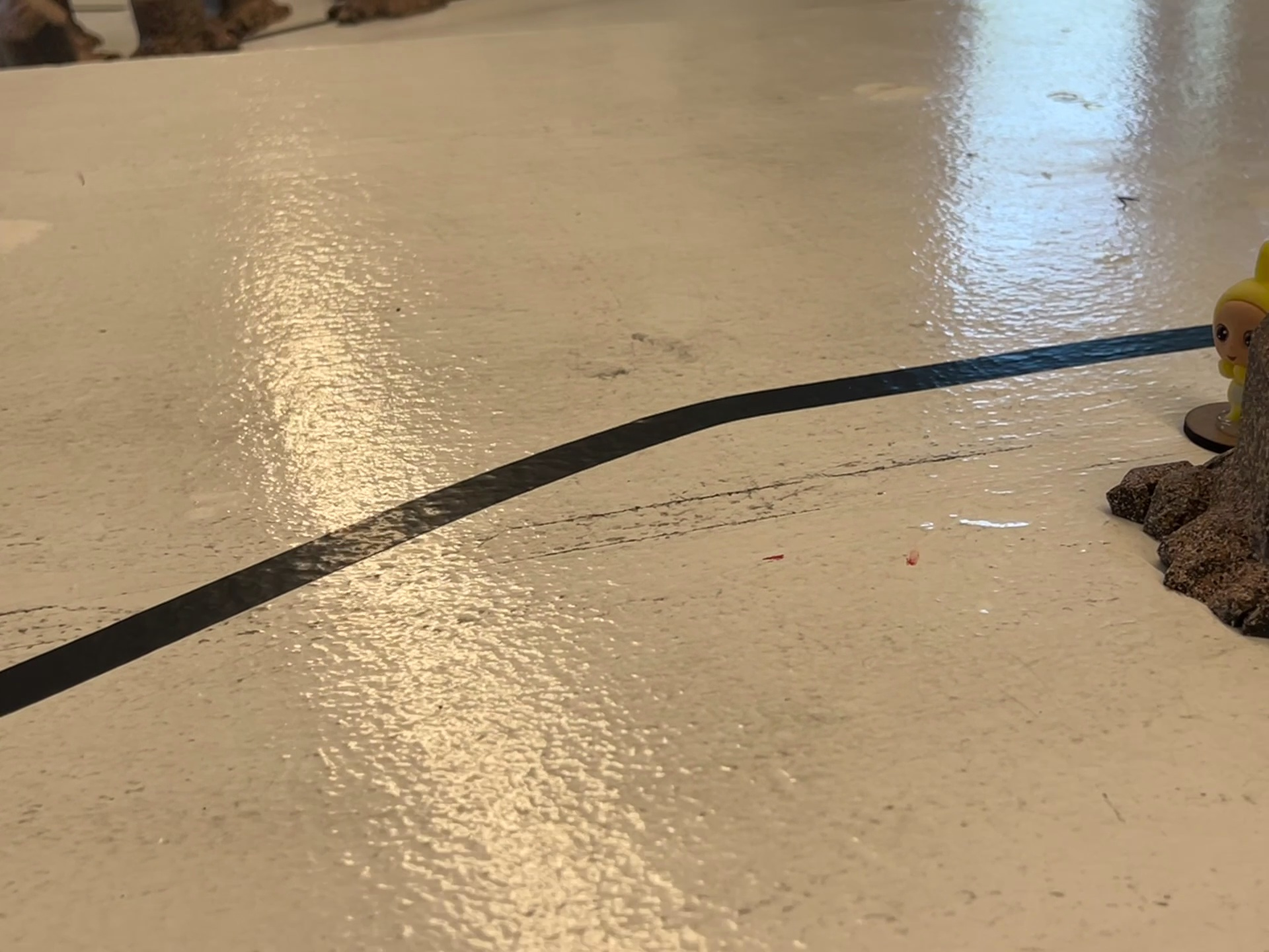teletubby: (1211, 241, 1268, 426)
